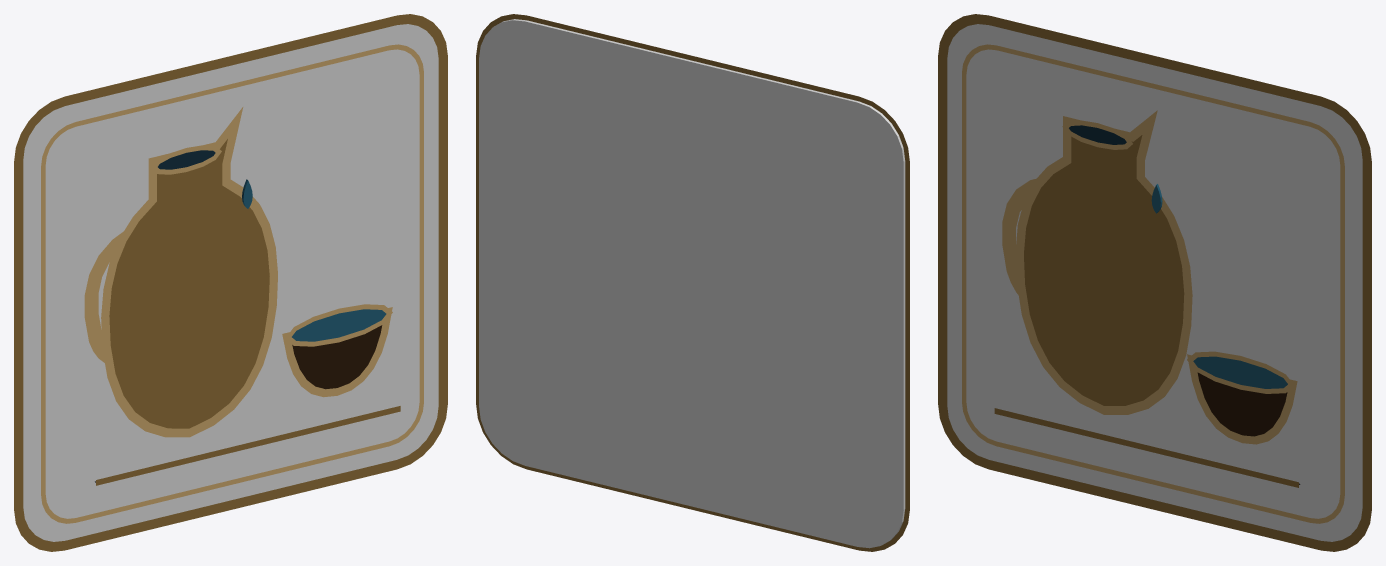
Rendered from obj-kuvshin-vody.glb.
The picture shows the model from 3 angles, left to right: view 1: azimuth 30°, elevation 25°; view 2: azimuth 150°, elevation 25°; view 3: azimuth 330°, elevation 25°; orthographic projection.
Parts seen in each view (by area): view 1: obj-kuvshin-vody; view 2: obj-kuvshin-vody; view 3: obj-kuvshin-vody.
Boxes of the visible parts, box(x1,y1,x2,y2) form: obj-kuvshin-vody: box(14, 14, 447, 551); obj-kuvshin-vody: box(476, 14, 909, 551); obj-kuvshin-vody: box(938, 14, 1371, 551).
Bounding box in the file's own units: 0.3917 × 0.3917 × 0.0226.
